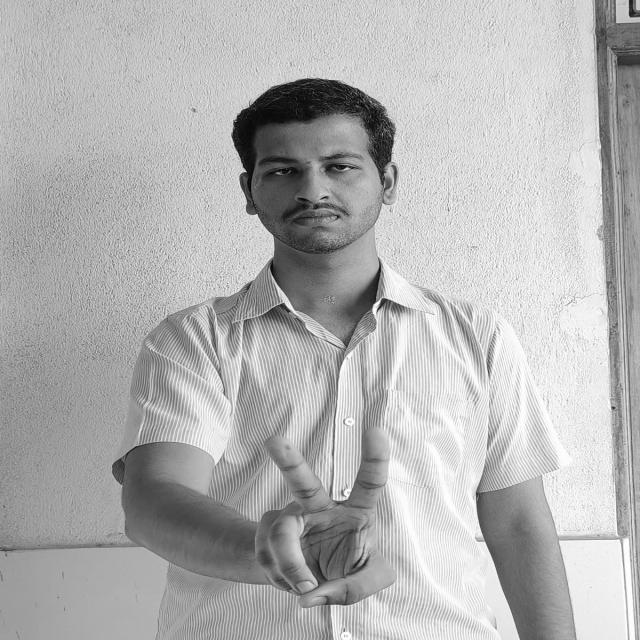Victory: (248, 427, 409, 612)
